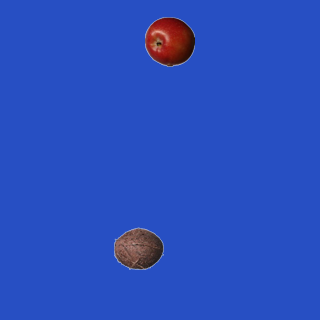Apple Braeburn: (144, 16, 194, 66)
Cocos: (113, 223, 163, 273)
